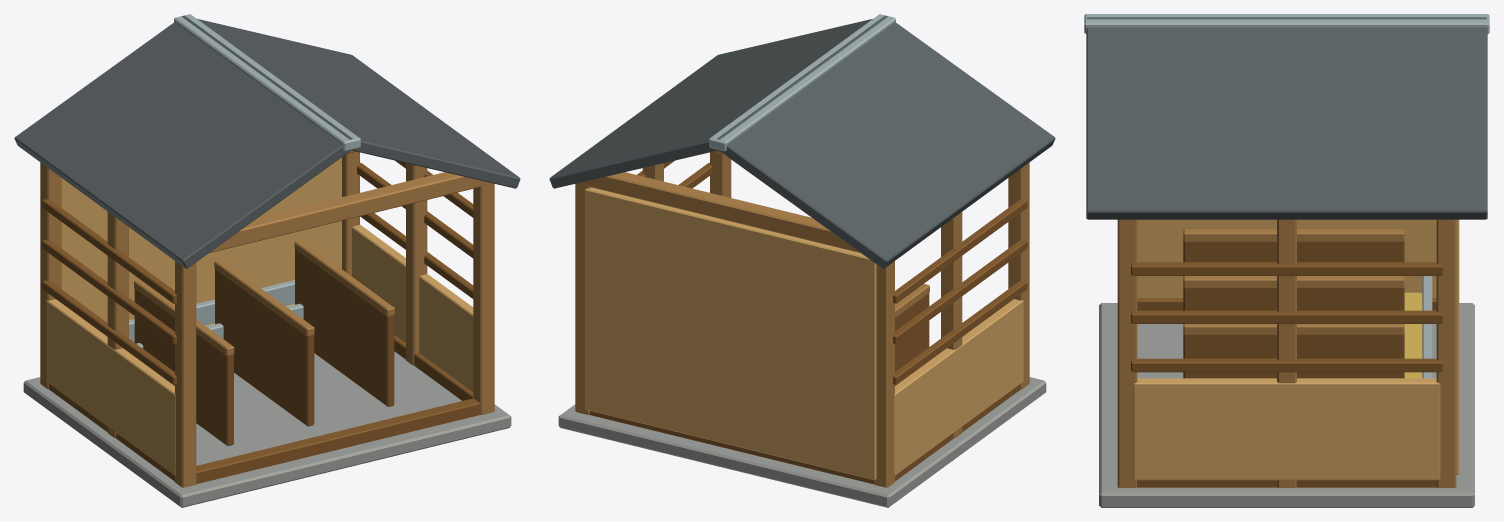
File: LivestockChopCompleted.glb
The picture shows the model from 3 angles, left to right: view 1: azimuth 30°, elevation 25°; view 2: azimuth 150°, elevation 25°; view 3: azimuth 270°, elevation 25°; orthographic projection. The views are drawn at different scales.
Visible parts, largest first — view 1: LivestockShelterCompleted_StaticMesh; view 2: LivestockShelterCompleted_StaticMesh; view 3: LivestockShelterCompleted_StaticMesh.
Part boxes in pixels (box(x1,y1,x2,y2)): LivestockShelterCompleted_StaticMesh: box(14, 14, 520, 507); LivestockShelterCompleted_StaticMesh: box(549, 14, 1055, 507); LivestockShelterCompleted_StaticMesh: box(1084, 14, 1489, 507).
Size of the model in its own units: 6.53 by 6.16 by 5.72.
